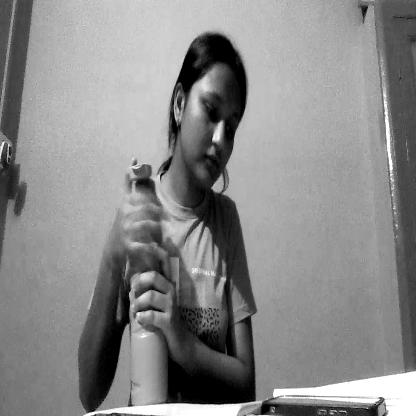Distracted: (174, 30, 254, 196)
